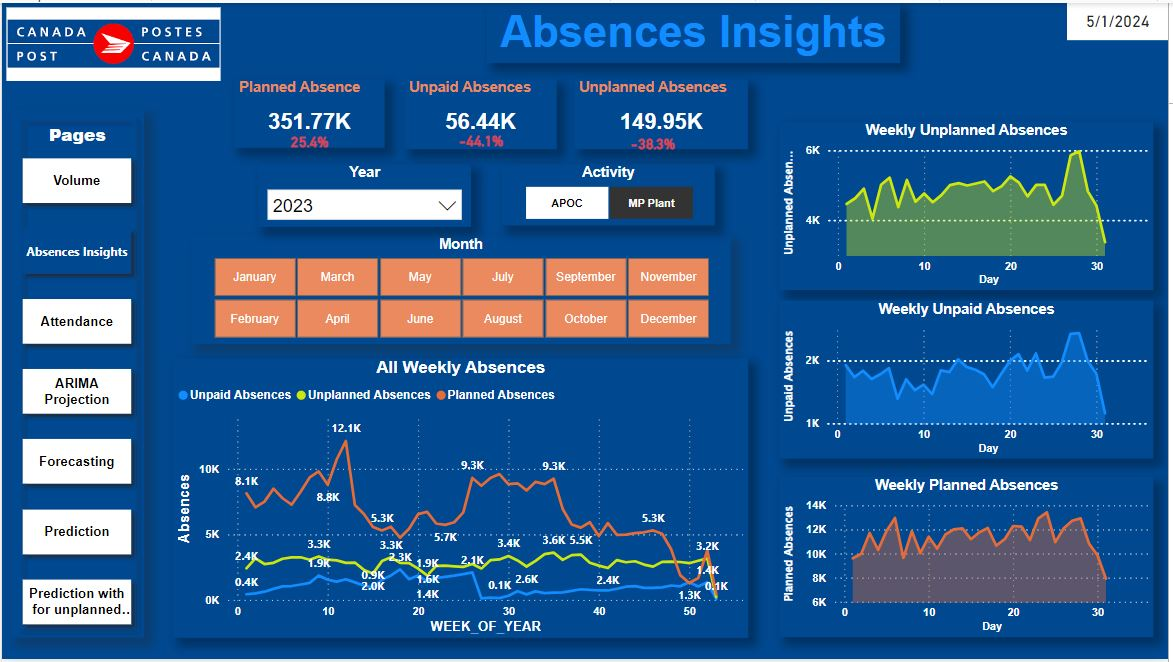

The page's visual inventory and layout, read from the dashboard file:
{"tool":"powerbi","page":{"name":"Absences Insights","canvas":[1280,720],"ordinal":1},"visuals":[{"type":"areaChart","title":"Weekly Unplanned Absences","fields":{"Y":["Sum(DATA.Unplanned Absences)"],"Category":["Date.CALENDAR_DATE.Variation.Date Hierarchy.Day"]},"box":[854,130.6,410.5,185.2],"z":0},{"type":"areaChart","title":"Weekly Unpaid Absences ","fields":{"Y":["Sum(DATA.Unpaid Absences)"],"Category":["Date.CALENDAR_DATE.Variation.Date Hierarchy.Day"]},"box":[854,327.2,410.5,173.7],"z":1000},{"type":"areaChart","title":"Weekly Planned Absences","fields":{"Y":["Sum(DATA.Planned Absences)"],"Category":["Date.CALENDAR_DATE.Variation.Date Hierarchy.Day"]},"box":[853.3,520.1,410.6,176.1],"z":2000},{"type":"lineChart","title":"All Weekly Absences ","fields":{"Y":["Sum(DATA.Unpaid Absences)","Sum(DATA.Unplanned Absences)","Sum(DATA.Planned Absences)"],"Category":["Date.WEEK_OF_YEAR"]},"box":[188,389.7,631.2,307.4],"z":3000},{"type":"slicer","title":"Month","fields":{"Values":["Date.CALENDAR_DATE.Variation.Date Hierarchy.Month"]},"box":[207.2,255.2,592.8,119.4],"z":4000},{"type":"slicer","title":"Year","fields":{"Values":["Date.CALENDAR_DATE.Variation.Date Hierarchy.Year"]},"box":[281.3,177,233.3,68.6],"z":5000},{"type":"slicer","title":"Activity","fields":{"Values":["Activity.Activity"]},"box":[548.9,177,233.3,67.2],"z":6000},{"type":"image","box":[0,0,245.2,90.4],"z":7000},{"type":"card","title":"Planned Absence","fields":{"Values":["Sum(DATA.Planned Absences)"]},"box":[255.2,83.7,164.7,75.4],"z":7000,"group":"g1"},{"type":"card","fields":{"Values":["Date.TodayDate"]},"box":[1168.9,0,111.1,41.2],"z":8000},{"type":"card","title":"Unpaid Absences","fields":{"Values":["Sum(DATA.Unpaid Absences)"]},"box":[441.9,83.7,167.4,76.8],"z":8000,"group":"g3"},{"type":"textbox","box":[532,0,453.4,65.5],"z":9000},{"type":"card","title":"Unplanned Absences","fields":{"Values":["Sum(DATA.Unplanned Absences)"]},"box":[628.5,83.7,190.7,76.8],"z":9000,"group":"g2"},{"type":"actionButton","box":[10,116.3,146.4,579.9],"z":10000},{"type":"pageNavigator","title":"Pages","box":[14.4,130.6,137.8,561.2],"z":11000},{"type":"group","id":"g1","title":"Group 2","box":[255.2,83.7,164.7,91.9],"z":12000},{"type":"group","id":"g2","title":"Group 1","box":[628.5,83.7,190.7,91.9],"z":13000},{"type":"group","id":"g3","title":"Group 3","box":[441.9,83.7,167.4,85.1],"z":14000},{"type":"card","fields":{"Values":["DATA.YOYPlanned"]},"box":[285.4,131.9,104.3,43.7],"z":14001,"group":"g1"},{"type":"card","fields":{"Values":["DATA.YOYUnPlanned"]},"box":[669.7,135.8,89.2,39.8],"z":14003,"group":"g2"},{"type":"card","fields":{"Values":["DATA.YOYUnPaid"]},"box":[474.8,137.2,101.5,31.6],"z":14009,"group":"g3"}]}

Visuals, with their boxes in screenshot pixels (x1, y1, x2, y2), scaled from the page's 1280x720 canvas onto the 1173x662 screenshot:
"Weekly Unplanned Absences" areaChart: BBox(783, 120, 1159, 290)
"Weekly Unpaid Absences " areaChart: BBox(783, 301, 1159, 461)
"Weekly Planned Absences" areaChart: BBox(782, 478, 1158, 640)
"All Weekly Absences " lineChart: BBox(172, 358, 751, 641)
"Month" slicer: BBox(190, 235, 733, 344)
"Year" slicer: BBox(258, 163, 472, 226)
"Activity" slicer: BBox(503, 163, 717, 225)
image: BBox(0, 0, 225, 83)
"Planned Absence" card: BBox(234, 77, 385, 146)
card - Date.TodayDate: BBox(1071, 0, 1172, 38)
"Unpaid Absences" card: BBox(405, 77, 558, 148)
textbox: BBox(488, 0, 903, 60)
"Unplanned Absences" card: BBox(576, 77, 751, 148)
actionButton: BBox(9, 107, 143, 640)
"Pages" pageNavigator: BBox(13, 120, 139, 636)
"Group 2" group: BBox(234, 77, 385, 161)
"Group 1" group: BBox(576, 77, 751, 161)
"Group 3" group: BBox(405, 77, 558, 155)
card - DATA.YOYPlanned: BBox(262, 121, 357, 161)
card - DATA.YOYUnPlanned: BBox(614, 125, 695, 161)
card - DATA.YOYUnPaid: BBox(435, 126, 528, 155)
